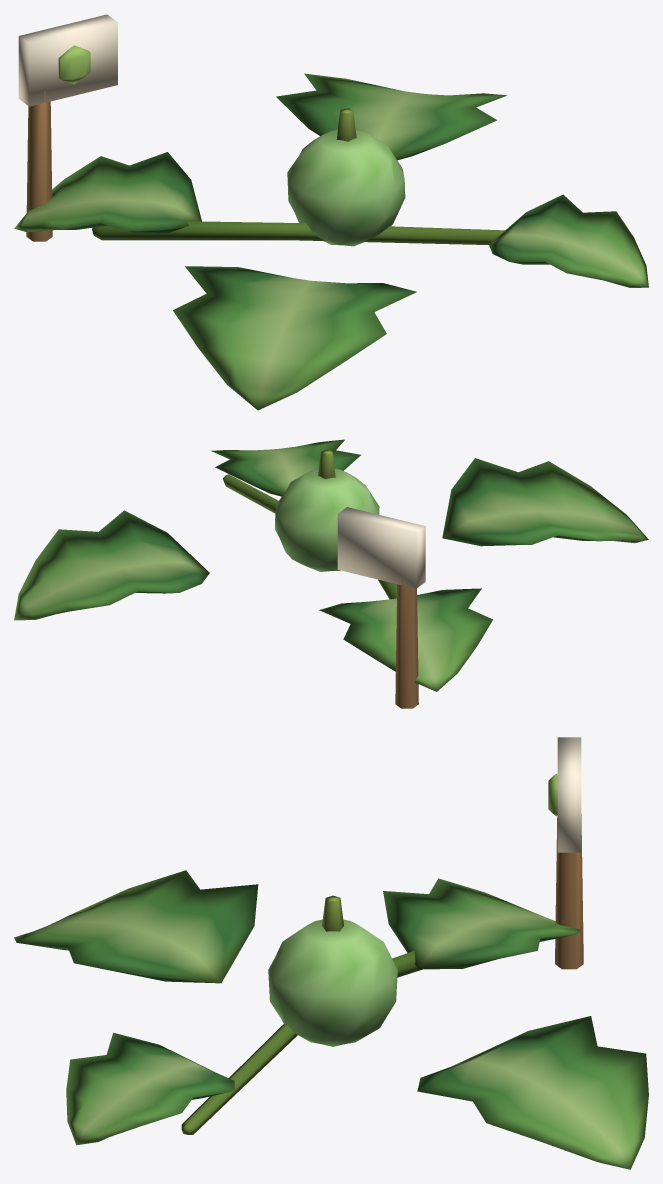
The model's file is prop-crop-melon-young.glb.
The picture shows the model from 3 angles, top to bottom: view 1: azimuth 30°, elevation 25°; view 2: azimuth 150°, elevation 25°; view 3: azimuth 270°, elevation 25°; orthographic projection. The views are drawn at different scales.
Parts seen in each view (by area): view 1: leaf, body; view 2: leaf, body; view 3: leaf, body.
Part boxes in pixels (box(x1,y1,x2,y2)): leaf: box(14, 73, 648, 410); body: box(18, 14, 405, 246); leaf: box(14, 439, 648, 691); body: box(275, 449, 425, 708); leaf: box(14, 870, 648, 1169); body: box(268, 737, 583, 1046).
Bounding box in the file's own units: 0.9117 × 0.3675 × 0.9673.
